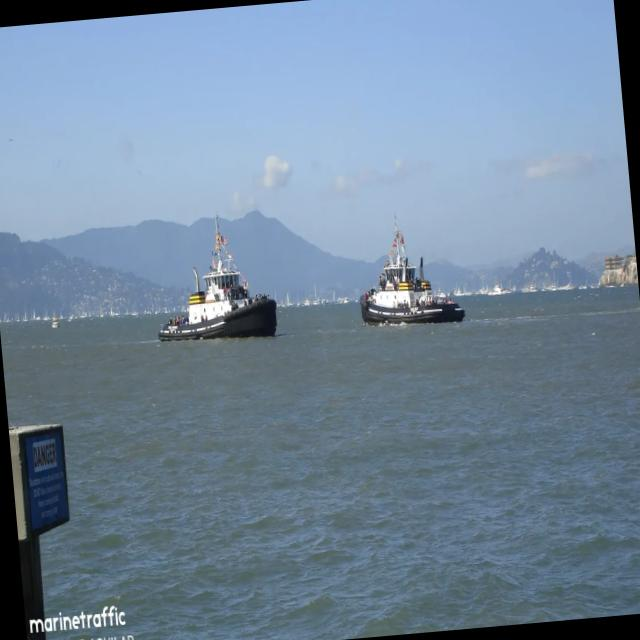Tug: (158, 216, 276, 340), (359, 214, 464, 323)
